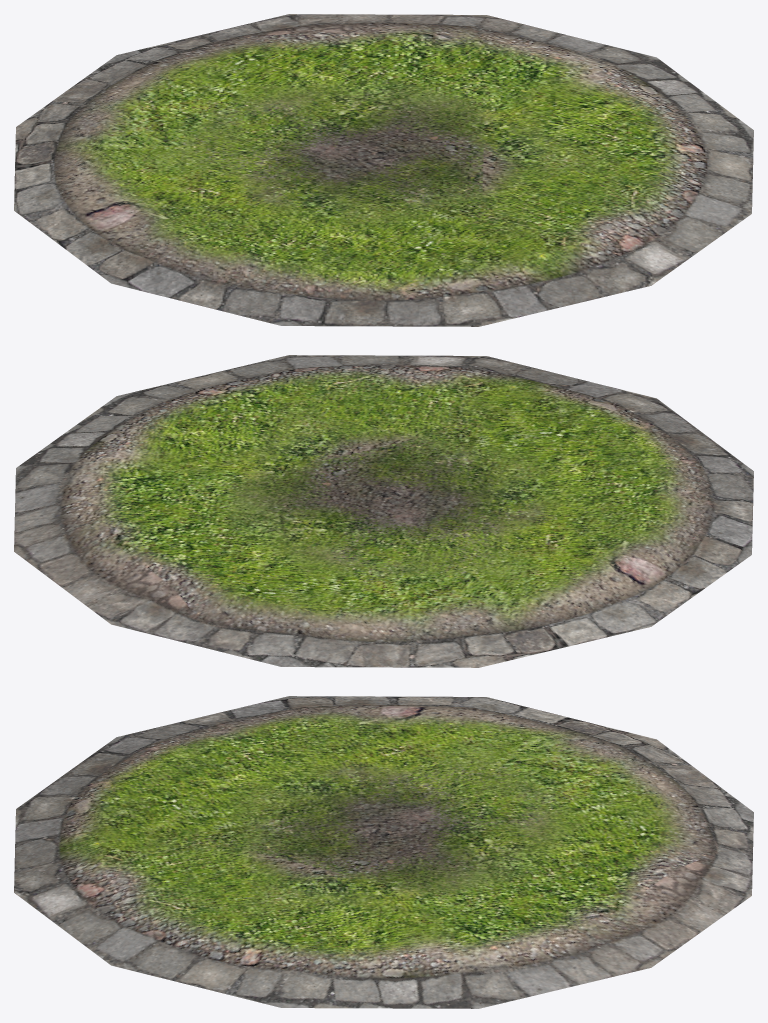
The model's file is treebed.fbx.
3 views of the same model, one above another, from view 1: azimuth 30°, elevation 25°; view 2: azimuth 150°, elevation 25°; view 3: azimuth 270°, elevation 25° (orthographic).
Parts seen in each view (by area): view 1: steamsquad_treebed; view 2: steamsquad_treebed; view 3: steamsquad_treebed.
Boxes of the visible parts, <box> form: steamsquad_treebed: <box>14,14,753,326</box>; steamsquad_treebed: <box>14,355,753,667</box>; steamsquad_treebed: <box>14,696,753,1008</box>.
Size of the model in its own units: 1.93 by 0.0487 by 1.93.
